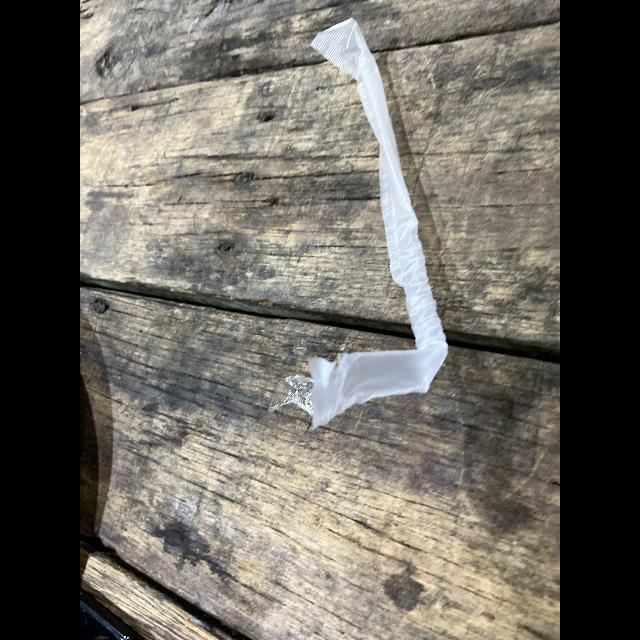scrap_plastic: (314, 11, 448, 415), (278, 375, 316, 417)
